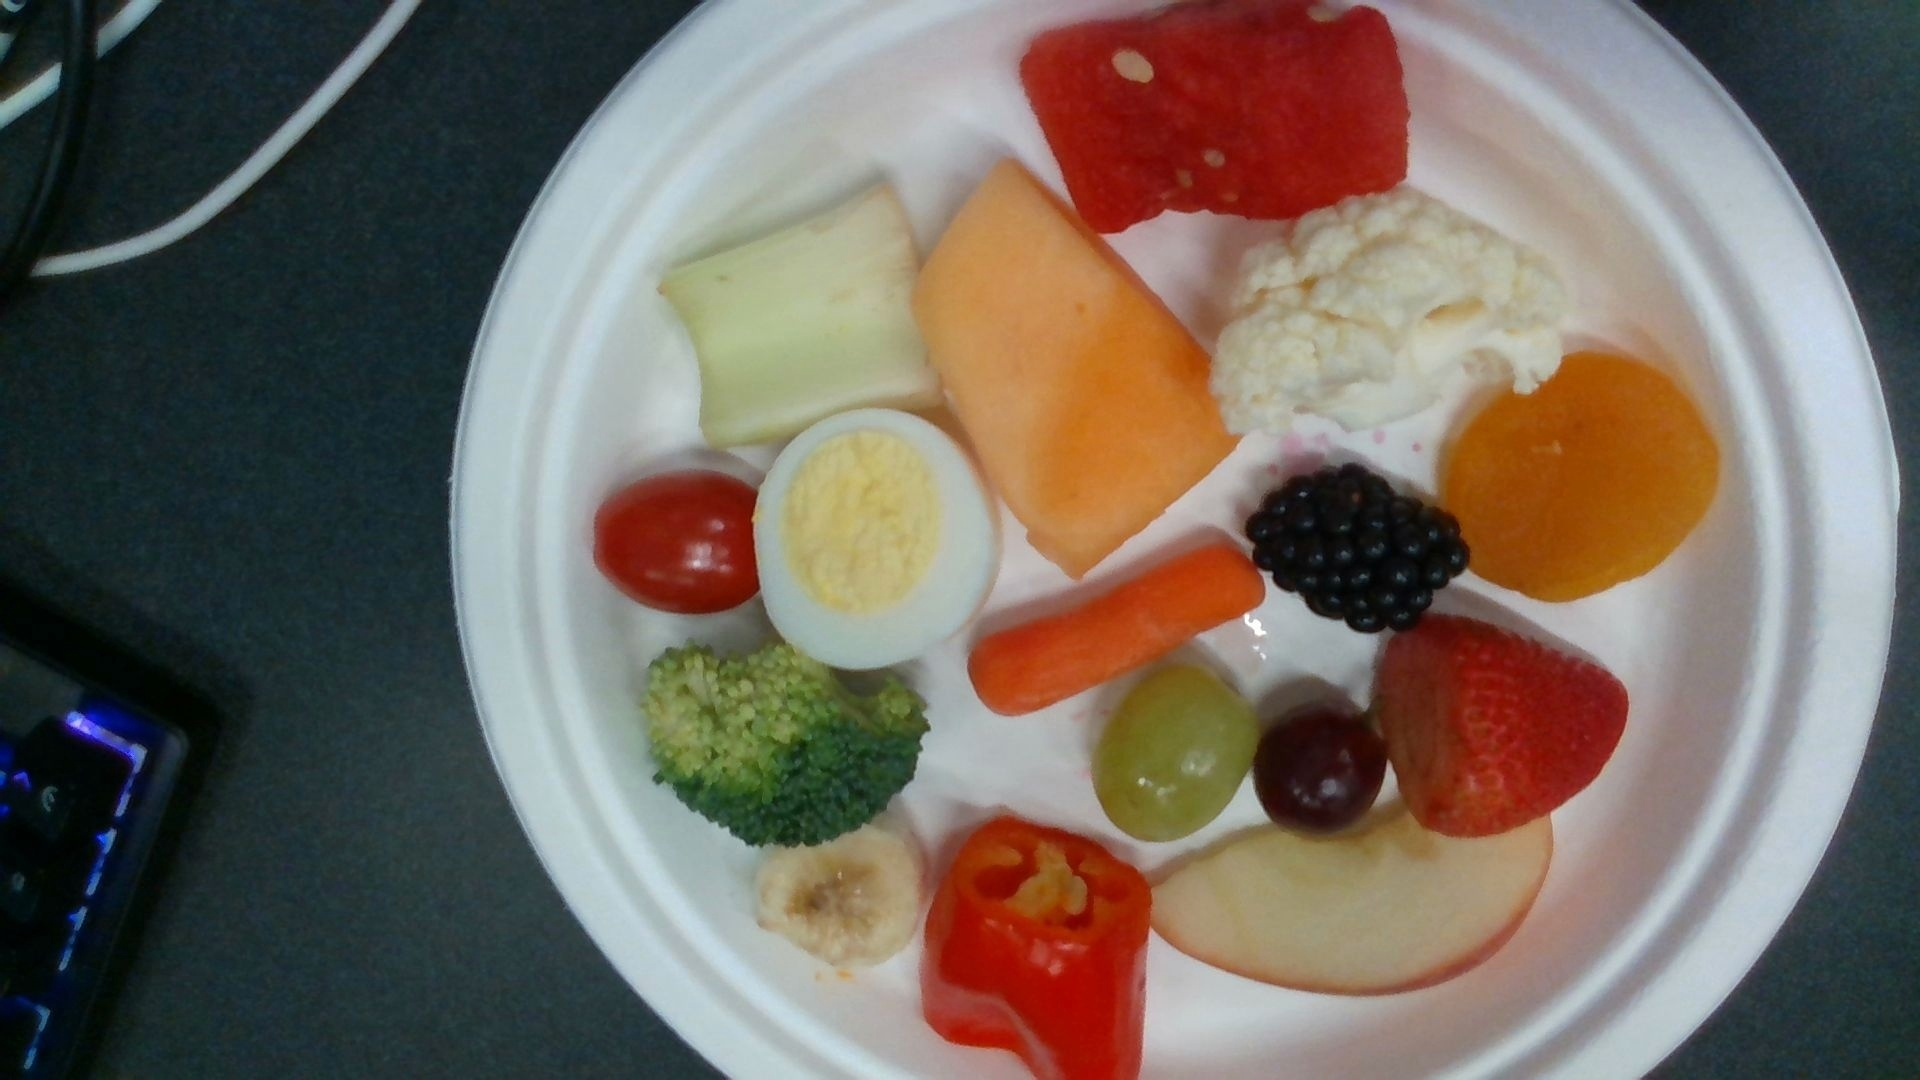apple: (1150, 810, 1553, 990)
apricot: (1445, 349, 1720, 596)
banana: (760, 828, 922, 965)
bell_pepper: (924, 814, 1149, 1080)
blackberry: (1247, 465, 1470, 636)
broccoli: (647, 644, 924, 847)
cantalope: (919, 161, 1242, 574)
carrot: (967, 545, 1265, 715)
cauliflower: (1209, 193, 1564, 423)
celery: (665, 181, 935, 443)
cherry_tomato: (593, 471, 757, 613)
egg: (756, 410, 1000, 669)
grape_green: (1092, 669, 1255, 840)
grape_purple: (1257, 705, 1379, 828)
melon: (1021, 1, 1408, 233)
strawberry: (1377, 620, 1627, 835)
